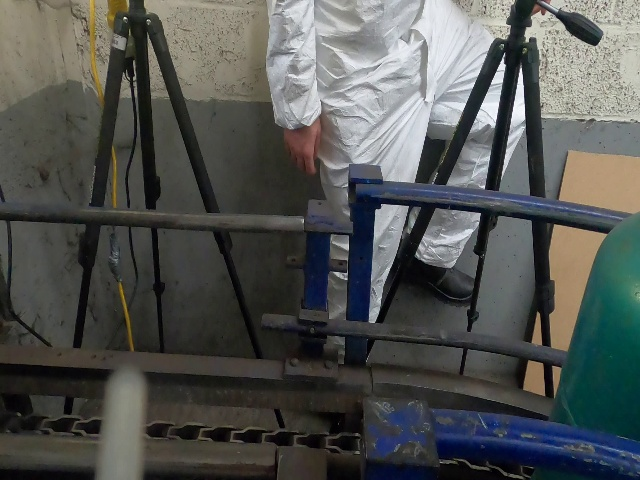gas_bottle: (4, 2, 640, 480)
